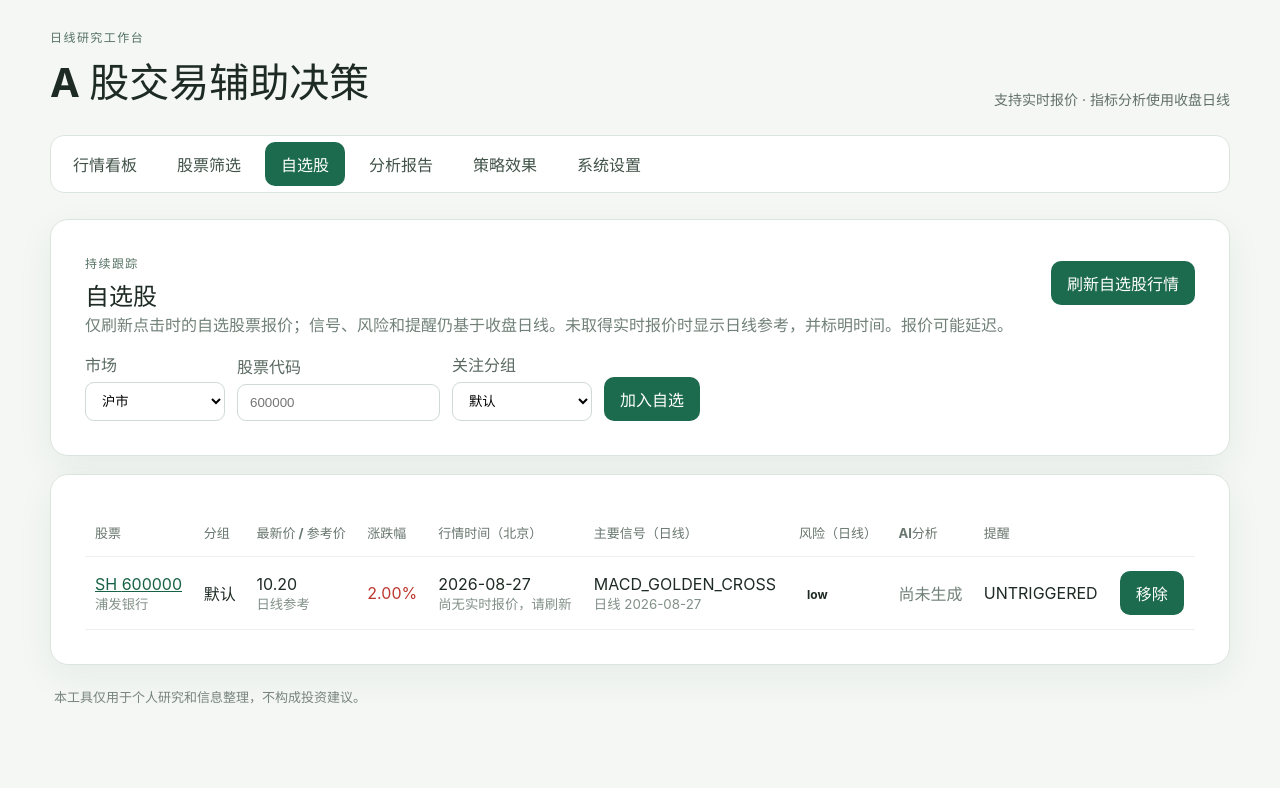
Scenario: App › 自选刷新使用自选范围并更新最新价，日线信号保持不变
The image size is (1280, 788).
Expected: the text "10.20" is shown, [256,574,297,594]
Expected: the text "日线参考" is shown, [256,596,310,612]
Step 1. Click the button "刷新自选股行情" → click(1123, 283), box [1051,261,1195,305]
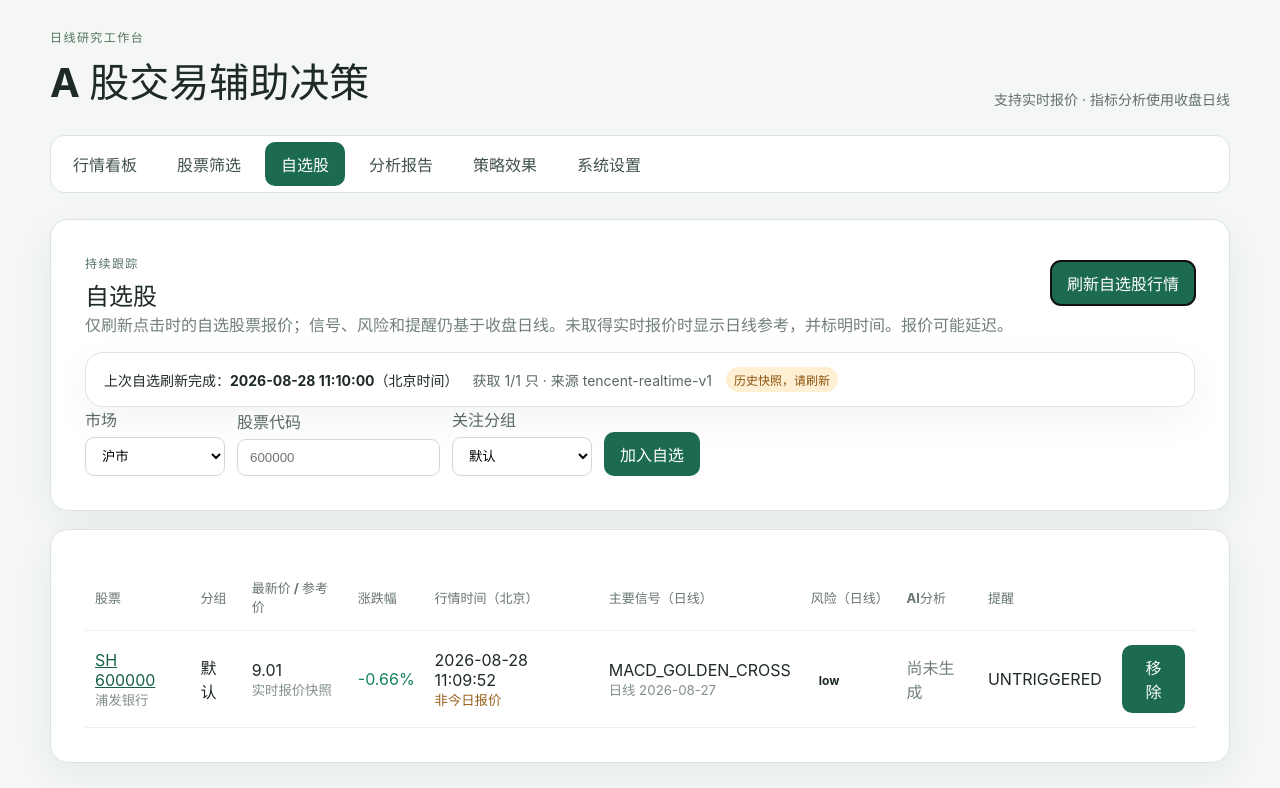
Result: the text "9.01" is shown at [252,660,282,680]
Result: the text "-0.66%" is shown at [348,630,425,728]
Result: the text "2026-08-28 11:09:52" is shown at [435,650,528,690]
